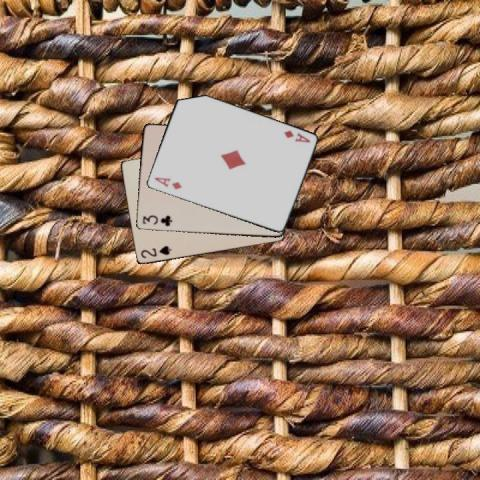2s: (137, 243, 173, 260)
3c: (140, 212, 174, 228)
Ad: (151, 174, 183, 191), (281, 127, 311, 144)
